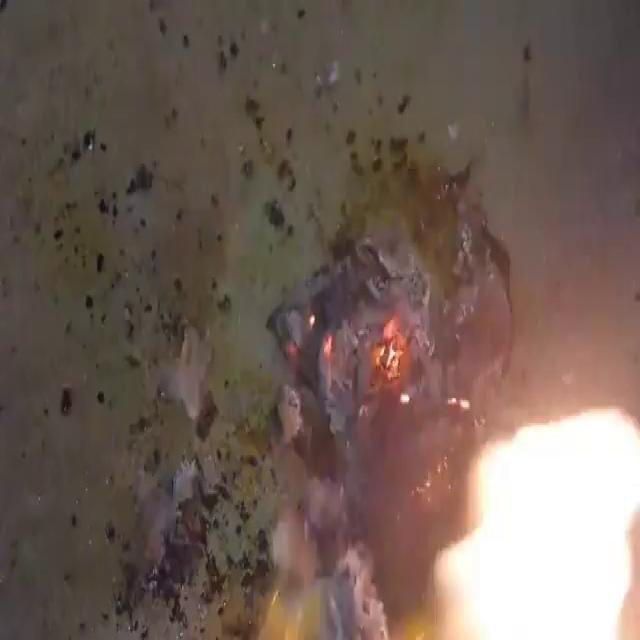Fire: (3, 4, 636, 636), (425, 400, 638, 636)
